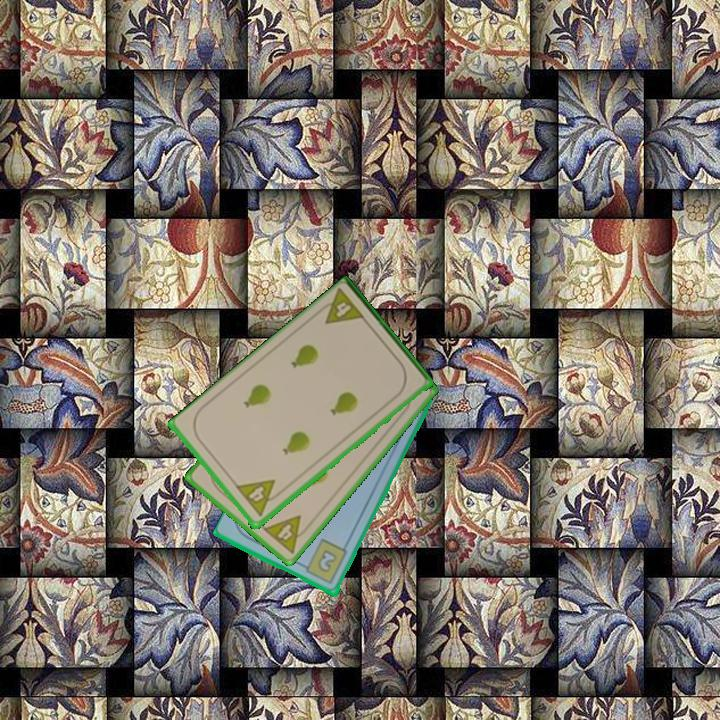2b: (297, 536, 350, 587)
4p: (259, 512, 314, 556), (313, 286, 368, 328), (233, 476, 285, 520)
